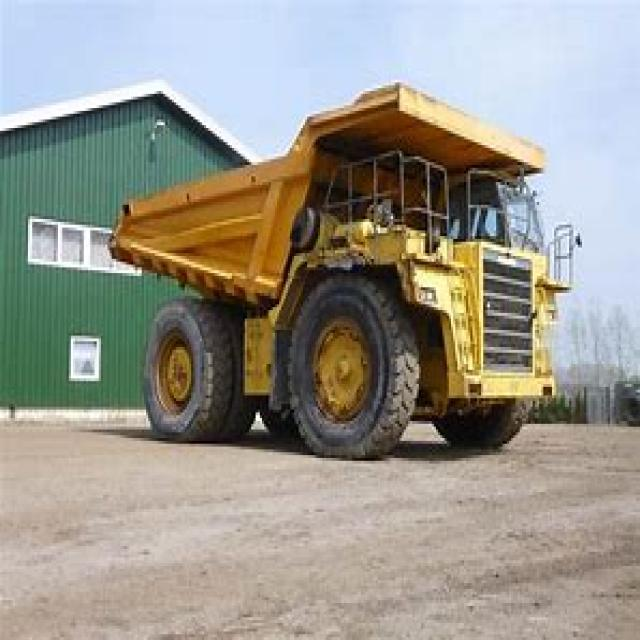dump_truck: (105, 80, 582, 495)
